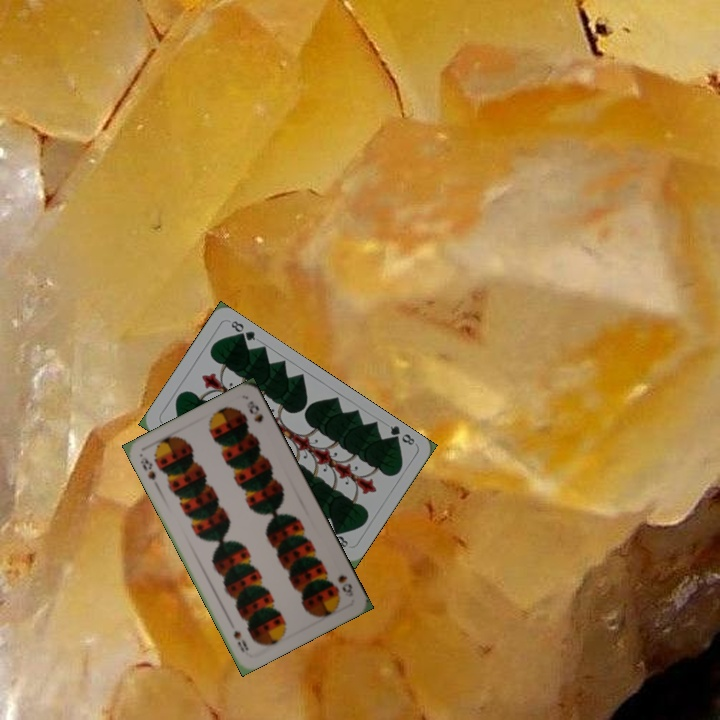G8: (385, 421, 417, 448)
S8: (136, 453, 159, 483), (334, 571, 355, 595)
